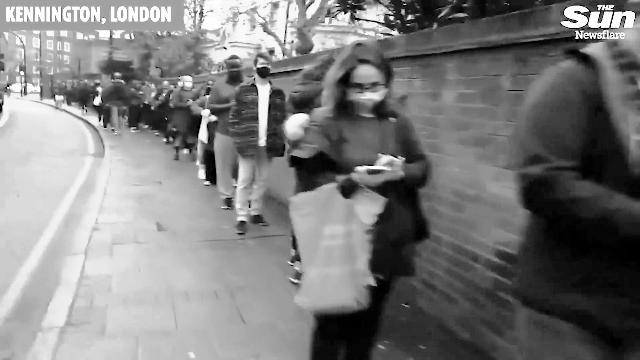berdiri: (302, 35, 428, 360), (225, 48, 291, 241)
